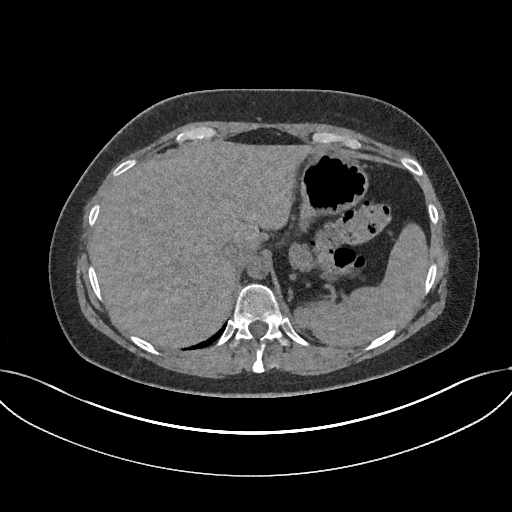Lesion: (357, 230, 371, 246)
